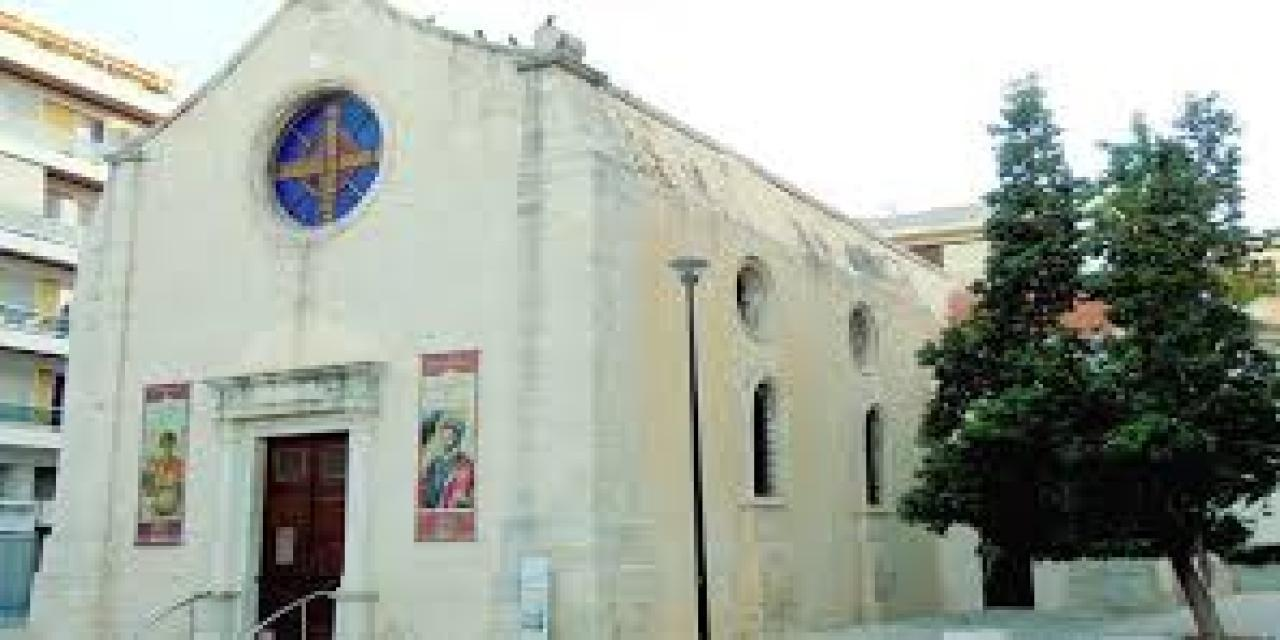Agia Aikaterini: (43, 1, 949, 640)
